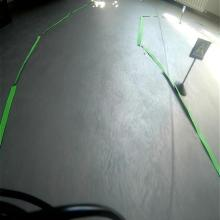crosswalk: (189, 37, 212, 61)
